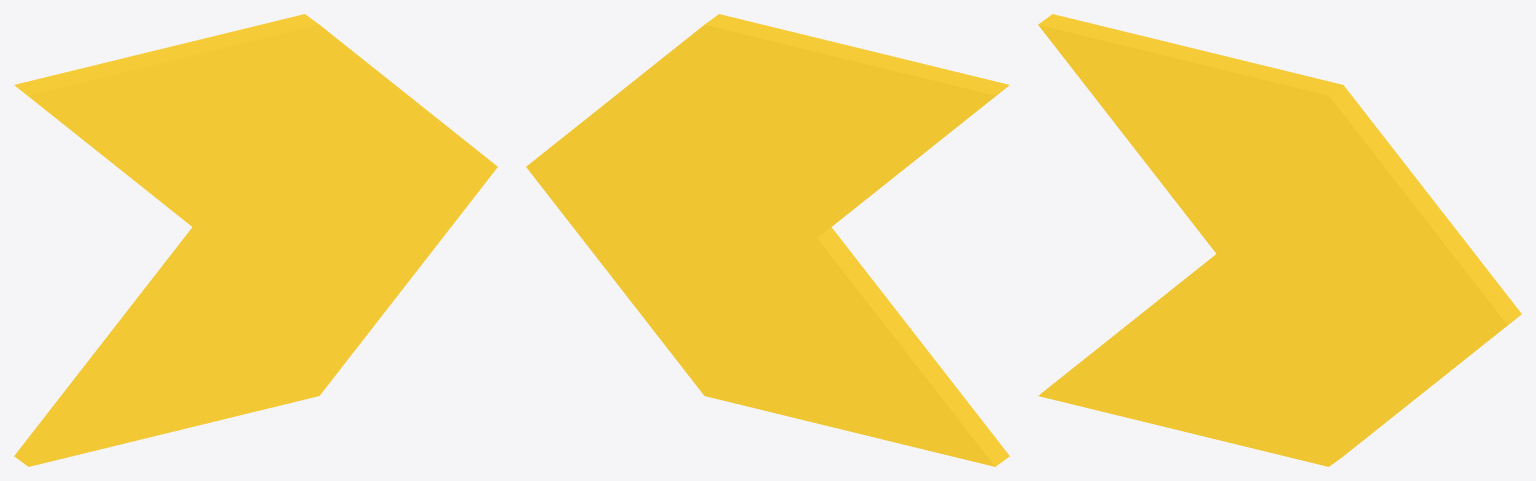
File: strzałka.glb
3 views of the same model, side by side, from view 1: azimuth 30°, elevation 25°; view 2: azimuth 150°, elevation 25°; view 3: azimuth 330°, elevation 25° (orthographic).
Parts seen in each view (by area): view 1: strzałka; view 2: strzałka; view 3: strzałka.
Boxes of the visible parts, x1,y1,x2,y2 form: strzałka: [14, 14, 497, 466]; strzałka: [526, 14, 1009, 466]; strzałka: [1038, 14, 1521, 466].
Size of the model in its own units: 0.1531 by 0.1157 by 0.00828.
